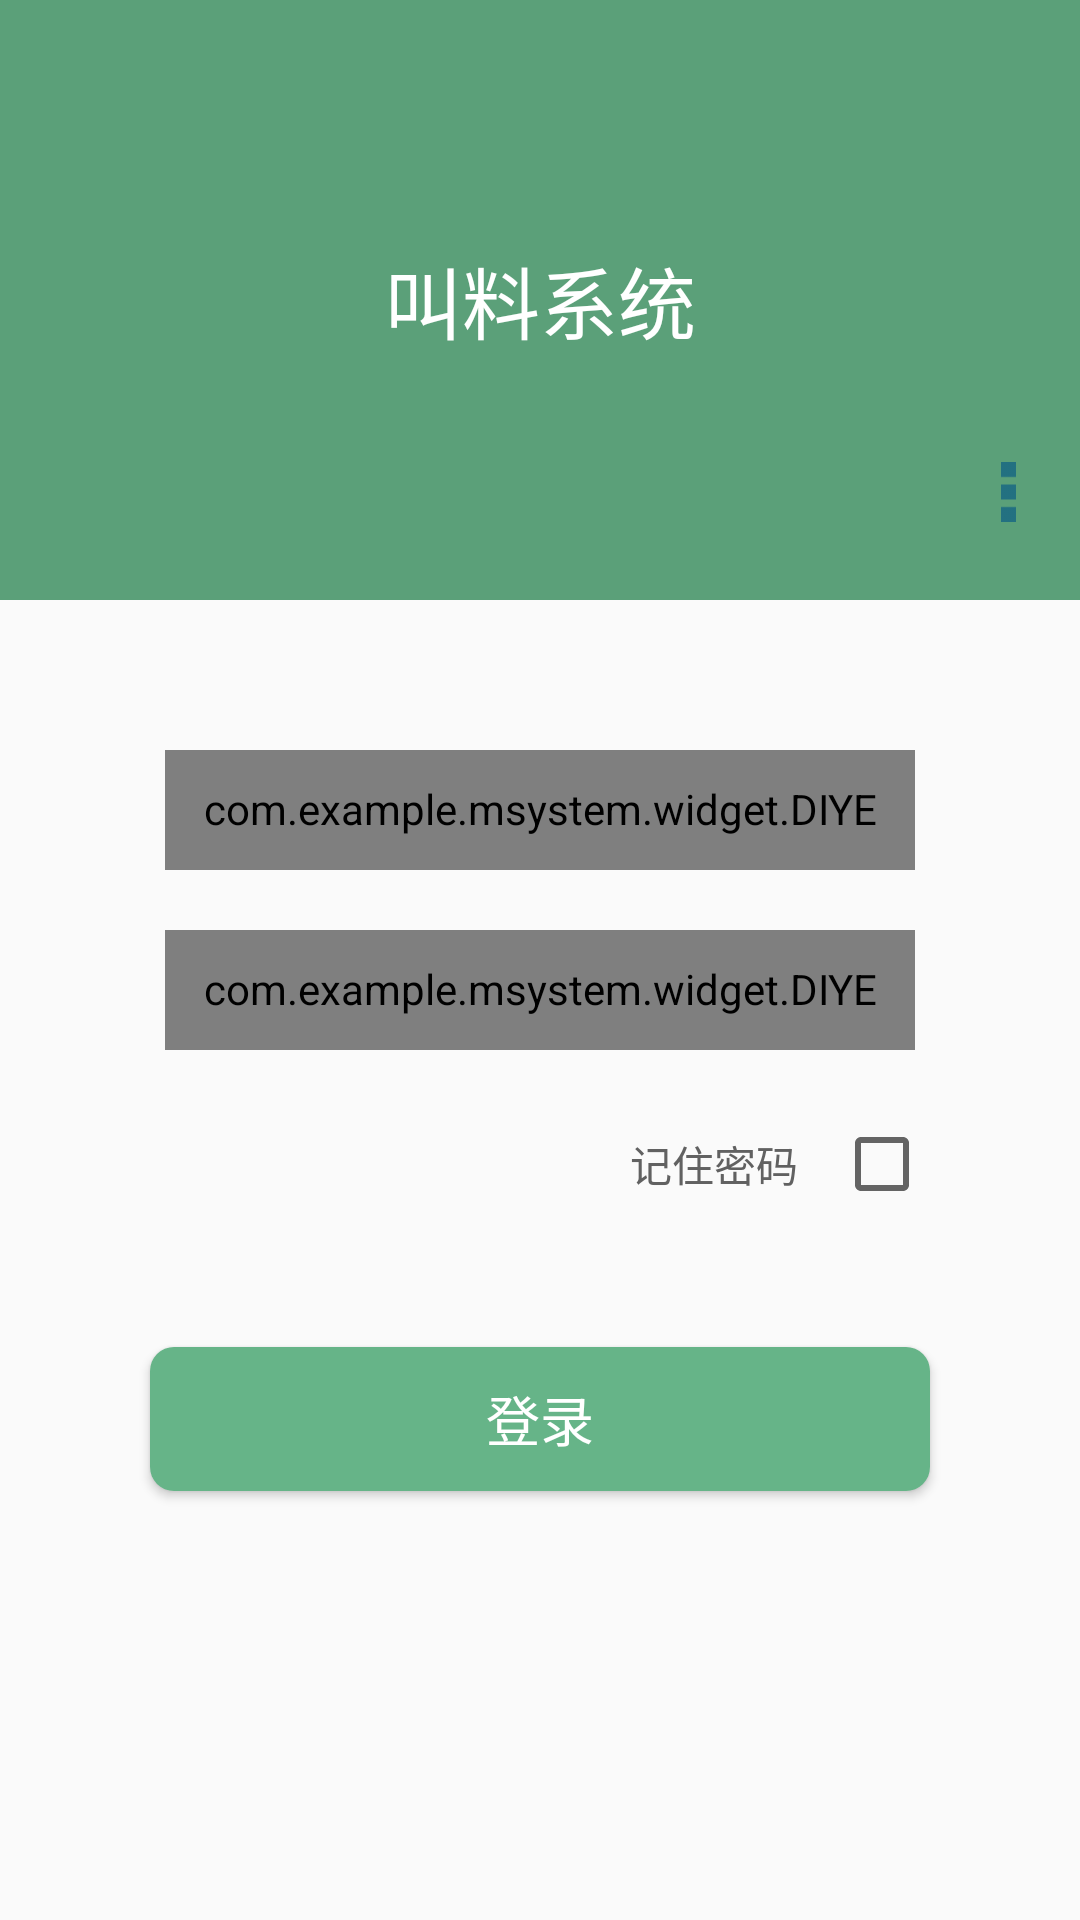

Named icons in this screenshot (1080px x 1920px) and their bounding boxes, (x1, y1, x2, y2):
options: (1001, 462, 1016, 522)
